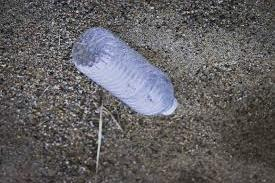Plastic: (58, 24, 194, 123)
